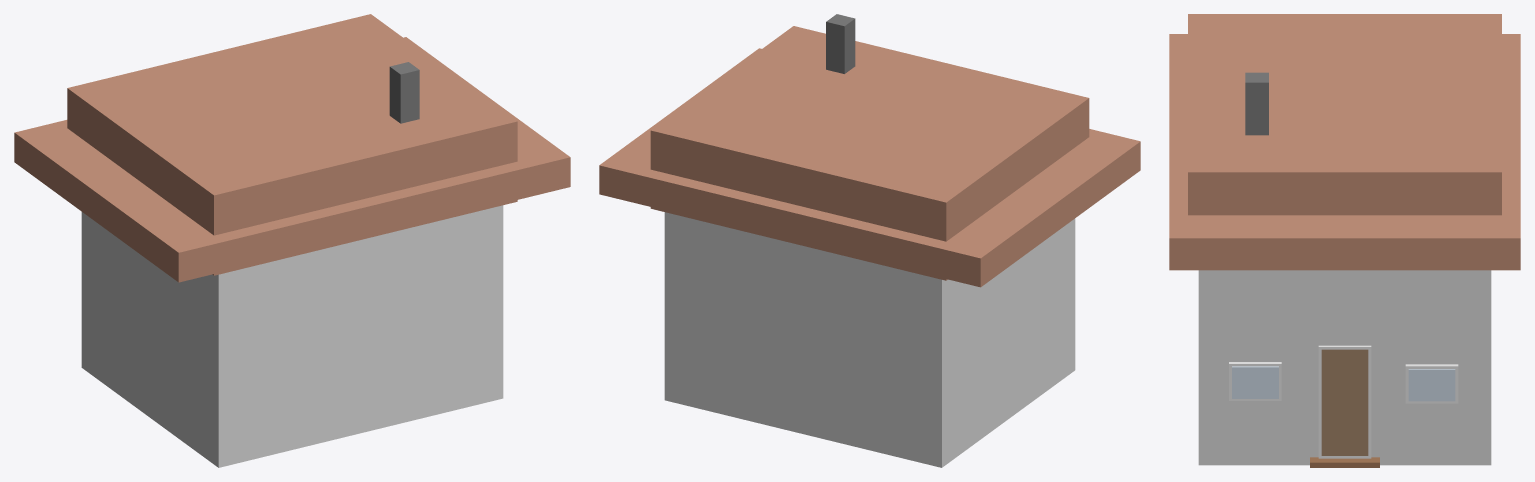
File: simpleHouse.fbx
3 renders of one model, left to right at view 1: azimuth 30°, elevation 25°; view 2: azimuth 150°, elevation 25°; view 3: azimuth 270°, elevation 25°, orthographic. The views are drawn at different scales.
Parts seen in each view (by area): view 1: House, Roof_Peak, Roof, Chimney; view 2: House, Roof_Peak, Roof, Chimney; view 3: Roof_Peak, House, Roof, Door, Window_Front_Right, Window_Front_Left, Chimney, Door_Frame, Porch, Window_Frame_Front_Right, Window_Frame_Front_Left.
Part boxes in pixels (bbox=[...]): House: bbox=[81, 205, 503, 467]; Roof_Peak: bbox=[67, 14, 517, 275]; Roof: bbox=[14, 37, 570, 282]; Chimney: bbox=[389, 62, 419, 123]; House: bbox=[664, 212, 1075, 467]; Roof_Peak: bbox=[650, 26, 1089, 280]; Roof: bbox=[599, 48, 1140, 287]; Chimney: bbox=[826, 14, 855, 73]; Roof_Peak: bbox=[1188, 14, 1501, 215]; House: bbox=[1198, 270, 1491, 465]; Roof: bbox=[1169, 34, 1520, 270]; Door: bbox=[1321, 349, 1368, 455]; Window_Front_Right: bbox=[1408, 369, 1455, 401]; Window_Front_Left: bbox=[1232, 366, 1278, 398]; Chimney: bbox=[1245, 72, 1268, 135]; Door_Frame: bbox=[1318, 345, 1371, 458]; Porch: bbox=[1310, 457, 1379, 467]; Window_Frame_Front_Right: bbox=[1405, 364, 1458, 403]; Window_Frame_Front_Left: bbox=[1229, 362, 1281, 400].
Bounding box in the file's own units: 826 × 660 × 600.
